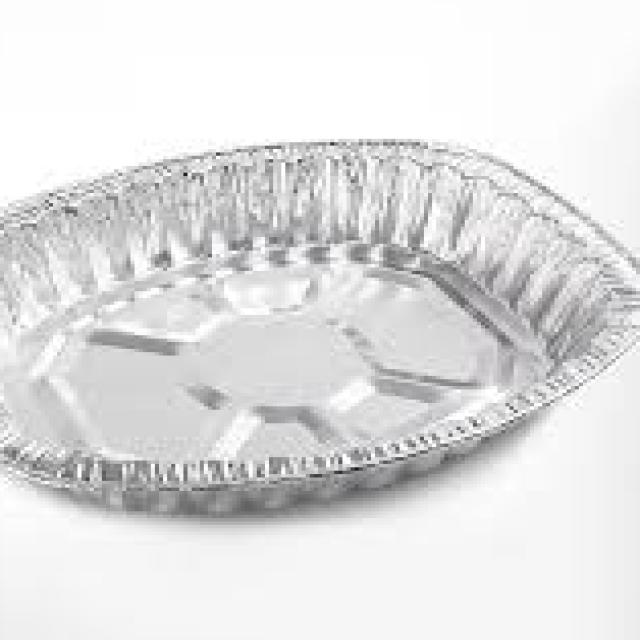organic: (0, 135, 624, 512)
